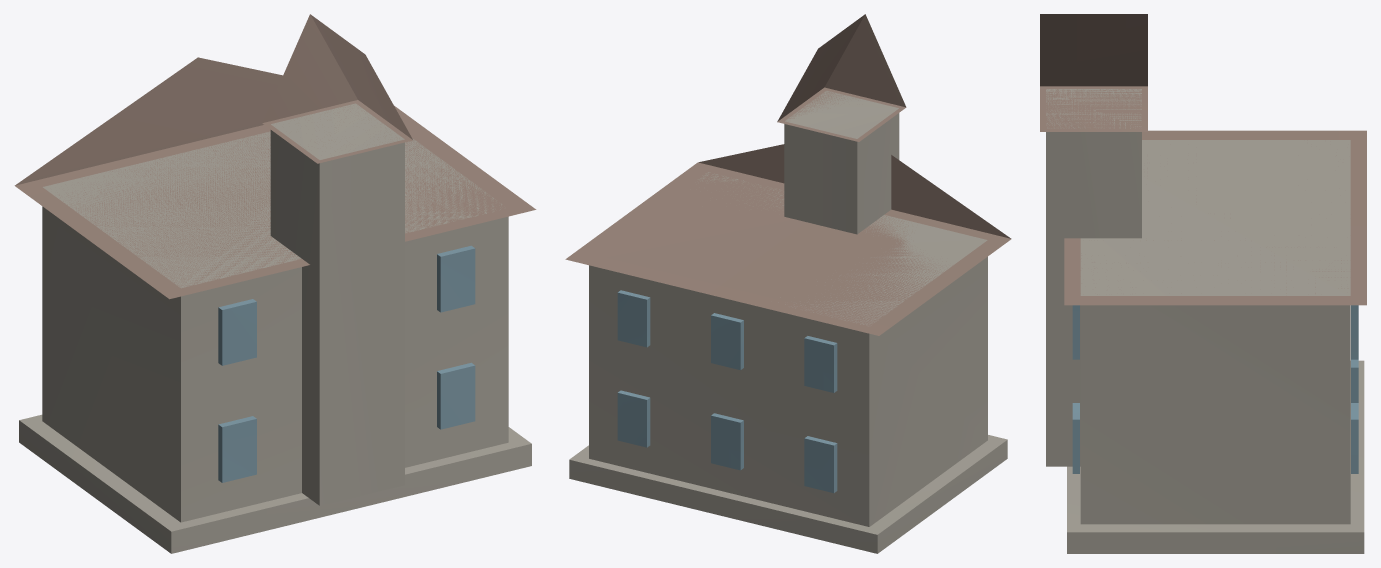
The model's file is church-01.glb.
3 renders of one model, left to right at view 1: azimuth 30°, elevation 25°; view 2: azimuth 150°, elevation 25°; view 3: azimuth 270°, elevation 25°, orthographic. The views are drawn at different scales.
Parts seen in each view (by area): view 1: world; view 2: world; view 3: world.
Boxes of the visible parts, x1,y1,x2,y2 form: world: (14, 14, 536, 553); world: (565, 14, 1011, 553); world: (1040, 14, 1366, 553).
Bounding box in the file's own units: 1.38 × 1.67 × 1.09.
